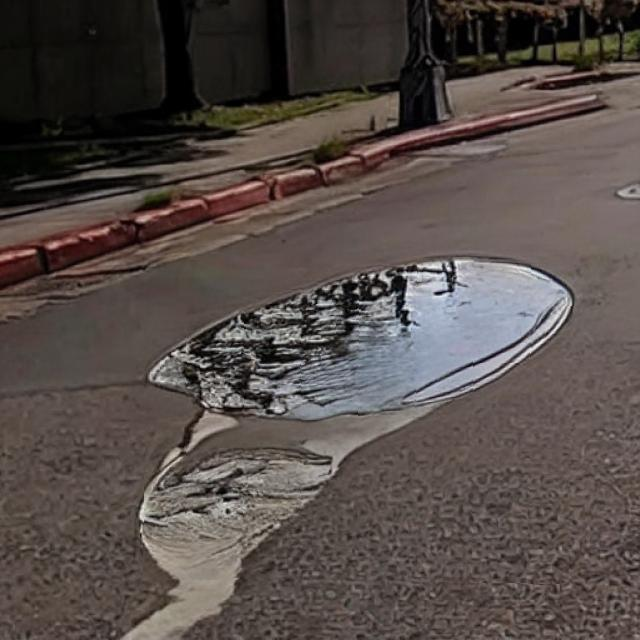puddle: (145, 256, 574, 583)
